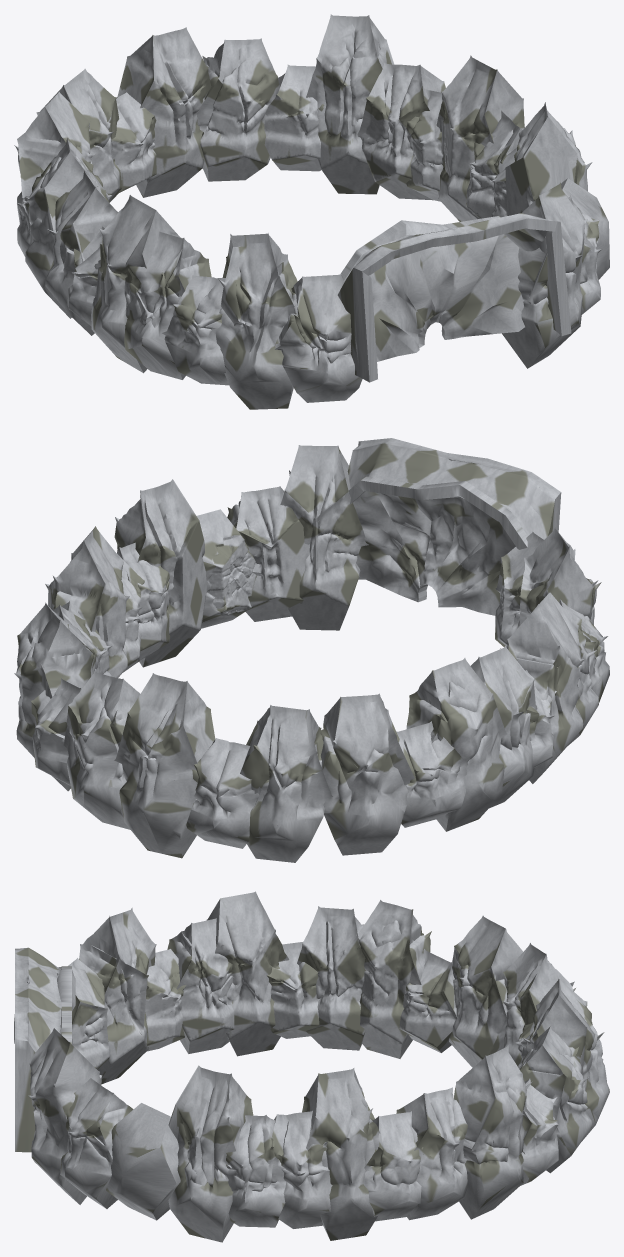
Rendered from quarry-lod1.glb.
3 views of the same model, one above another, from view 1: azimuth 30°, elevation 25°; view 2: azimuth 150°, elevation 25°; view 3: azimuth 270°, elevation 25° (orthographic). The views are drawn at different scales.
Parts seen in each view (by area): view 1: Quarry_Exit_LOD1, Quarry_Rock_25_LOD1, Quarry_Rock_11_LOD1, Quarry_Rock_14_LOD1, Quarry_Crown_LOD1, Quarry_Rock_13_LOD1, Quarry_Rock_26_LOD1, Quarry_Rock_08_LOD1, Quarry_Rock_02_LOD1, Quarry_Rock_23_LOD1, Quarry_Rock_10_LOD1, Quarry_Rock_22_LOD1 (+15 smaller); view 2: Quarry_Exit_LOD1, Quarry_Rock_14_LOD1, Quarry_Rock_17_LOD1, Quarry_Crown_LOD1, Quarry_Rock_16_LOD1, Quarry_Rock_02_LOD1, Quarry_Rock_19_LOD1, Quarry_Rock_05_LOD1, Quarry_Rock_13_LOD1, Quarry_Rock_03_LOD1, Quarry_Rock_22_LOD1, Quarry_Rock_08_LOD1 (+15 smaller); view 3: Quarry_Rock_05_LOD1, Quarry_Rock_11_LOD1, Quarry_Rock_08_LOD1, Quarry_Rock_22_LOD1, Quarry_Rock_19_LOD1, Quarry_Rock_25_LOD1, Quarry_Rock_17_LOD1, Quarry_Rock_20_LOD1, Quarry_Rock_04_LOD1, Quarry_Rock_23_LOD1, Quarry_Rock_02_LOD1, Quarry_Crown_LOD1 (+14 smaller).
Part boxes in pixels (<box>): Quarry_Exit_LOD1: <box>340,216,524,361</box>; Quarry_Rock_25_LOD1: <box>215,233,297,409</box>; Quarry_Rock_11_LOD1: <box>306,14,394,194</box>; Quarry_Rock_14_LOD1: <box>117,27,211,197</box>; Quarry_Crown_LOD1: <box>337,213,571,382</box>; Quarry_Rock_13_LOD1: <box>196,38,279,181</box>; Quarry_Rock_26_LOD1: <box>275,274,362,402</box>; Quarry_Rock_08_LOD1: <box>436,55,524,221</box>; Quarry_Rock_02_LOD1: <box>502,182,587,368</box>; Quarry_Rock_23_LOD1: <box>124,231,211,379</box>; Quarry_Rock_10_LOD1: <box>357,63,445,200</box>; Quarry_Rock_22_LOD1: <box>91,195,181,373</box>; Quarry_Exit_LOD1: <box>353,476,527,615</box>; Quarry_Rock_14_LOD1: <box>114,673,215,858</box>; Quarry_Rock_17_LOD1: <box>320,693,414,855</box>; Quarry_Crown_LOD1: <box>347,438,561,549</box>; Quarry_Rock_16_LOD1: <box>240,705,332,862</box>; Quarry_Rock_02_LOD1: <box>280,445,368,630</box>; Quarry_Rock_19_LOD1: <box>406,658,507,831</box>; Quarry_Rock_05_LOD1: <box>114,479,206,667</box>; Quarry_Rock_13_LOD1: <box>63,671,140,829</box>; Quarry_Rock_03_LOD1: <box>227,486,309,621</box>; Quarry_Rock_22_LOD1: <box>500,592,584,783</box>; Quarry_Rock_08_LOD1: <box>45,526,129,677</box>; Quarry_Rock_05_LOD1: <box>168,1065,253,1242</box>; Quarry_Rock_11_LOD1: <box>453,1045,532,1219</box>; Quarry_Rock_08_LOD1: <box>302,1068,380,1240</box>; Quarry_Rock_22_LOD1: <box>206,891,289,1056</box>; Quarry_Rock_19_LOD1: <box>356,900,431,1058</box>; Quarry_Rock_25_LOD1: <box>79,907,156,1084</box>; Quarry_Rock_17_LOD1: <box>449,915,522,1067</box>; Quarry_Rock_20_LOD1: <box>297,906,365,1050</box>; Quarry_Rock_04_LOD1: <box>106,1103,180,1220</box>; Quarry_Rock_23_LOD1: <box>167,918,234,1053</box>; Quarry_Rock_02_LOD1: <box>28,1028,102,1204</box>; Quarry_Crown_LOD1: <box>14,947,75,1152</box>.
Size of the model in its own units: 143 by 51.46 by 163.
1 material, 1 textured.
